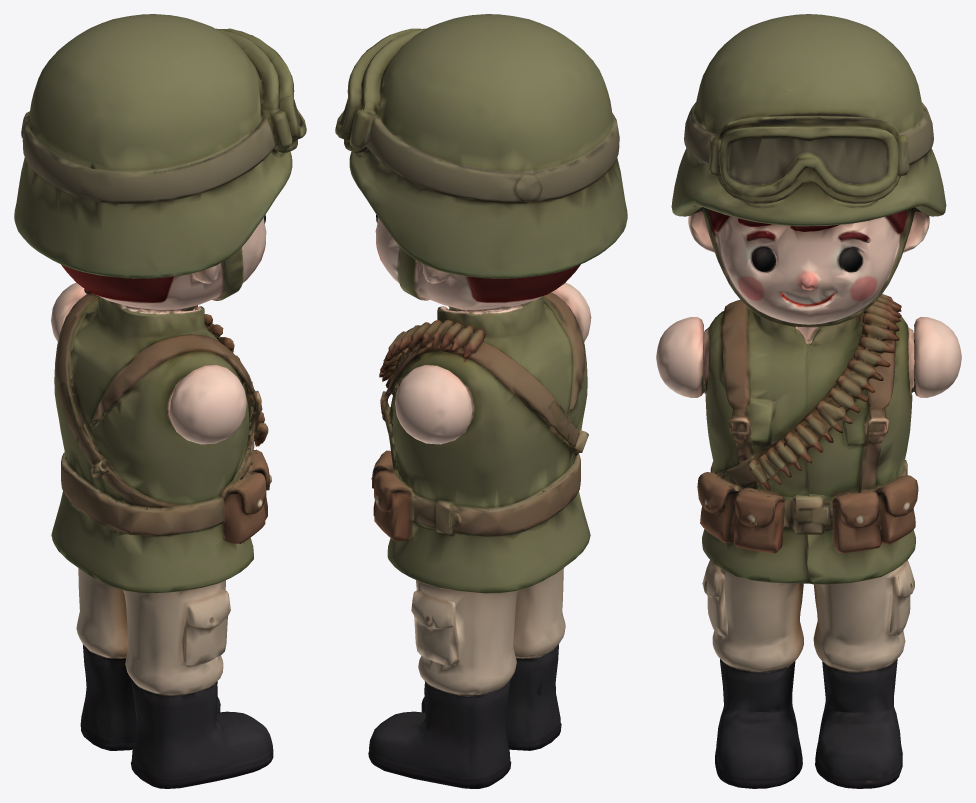
3 views of the same model, side by side, from view 1: azimuth 30°, elevation 25°; view 2: azimuth 150°, elevation 25°; view 3: azimuth 270°, elevation 25° (orthographic).
Parts seen in each view (by area): view 1: repaired; view 2: repaired; view 3: repaired.
Boxes of the visible parts, <box> form: repaired: <box>14,14,306,788</box>; repaired: <box>335,14,627,788</box>; repaired: <box>656,14,961,788</box>.
Size of the model in its own units: 0.354 by 0.9996 by 0.3861.
Materials: 1 (1 with a texture image).
